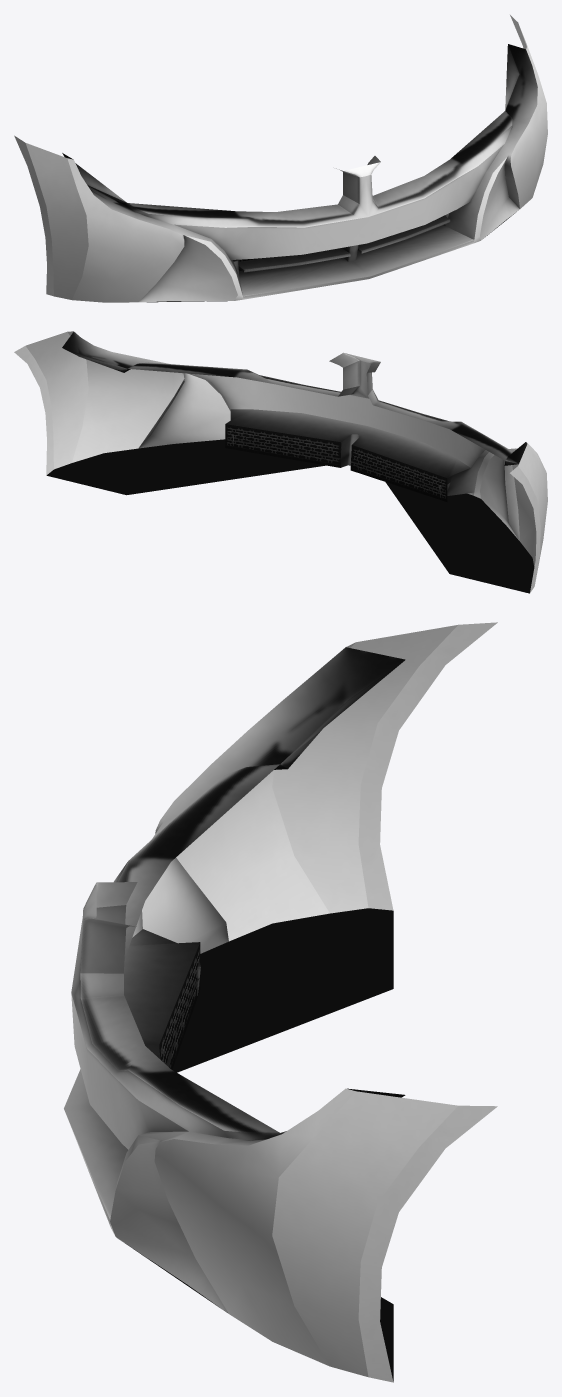
Rendered from Sport_07_Bumper_F_1.fbx.
3 views of the same model, one above another, from view 1: azimuth 30°, elevation 25°; view 2: azimuth 150°, elevation 25°; view 3: azimuth 270°, elevation 25° (orthographic). The views are drawn at different scales.
Visible parts, largest first — view 1: Sport_07_Bumper_F_1; view 2: Sport_07_Bumper_F_1; view 3: Sport_07_Bumper_F_1.
Boxes of the visible parts, x1,y1,x2,y2 form: Sport_07_Bumper_F_1: (14,15,547,302); Sport_07_Bumper_F_1: (14,331,547,593); Sport_07_Bumper_F_1: (64,622,497,1382).
Size of the model in its own units: 204 by 55.59 by 77.52.
